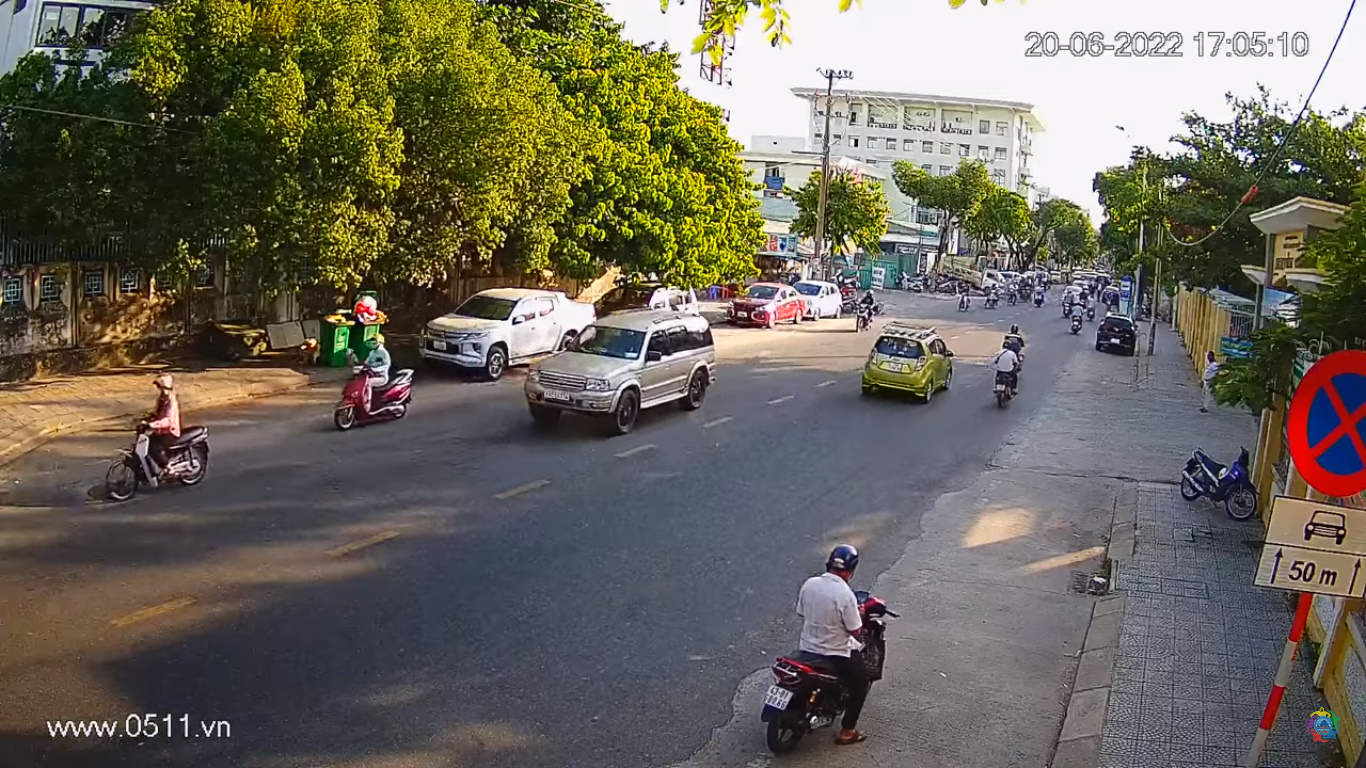car: (527, 309, 720, 428), (859, 329, 953, 399)
